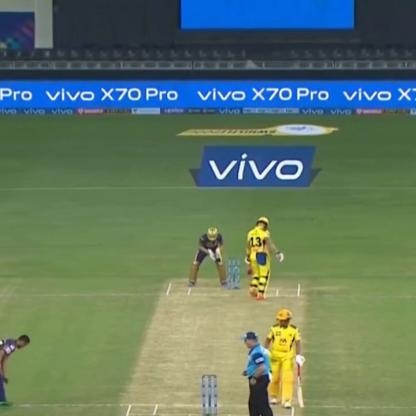pitch: (108, 266, 314, 416)
